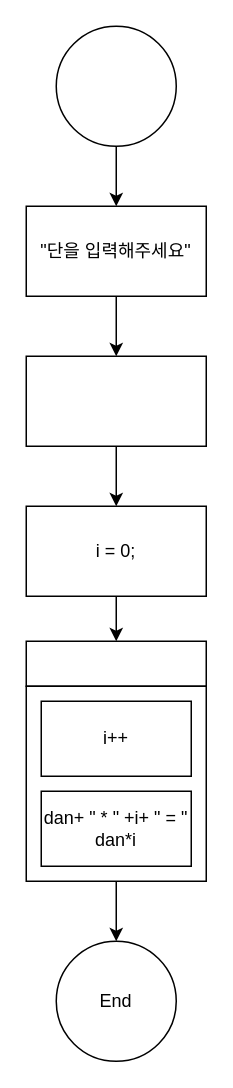
The diagram is 233 pixels wide and 1088 high, and some of its shapes have lost their labels. The centre of each missing label's shape, as x and y in pixels:
i < 9;: [115,663]
Start: [115,85]
단 입력 dan: [115,400]
